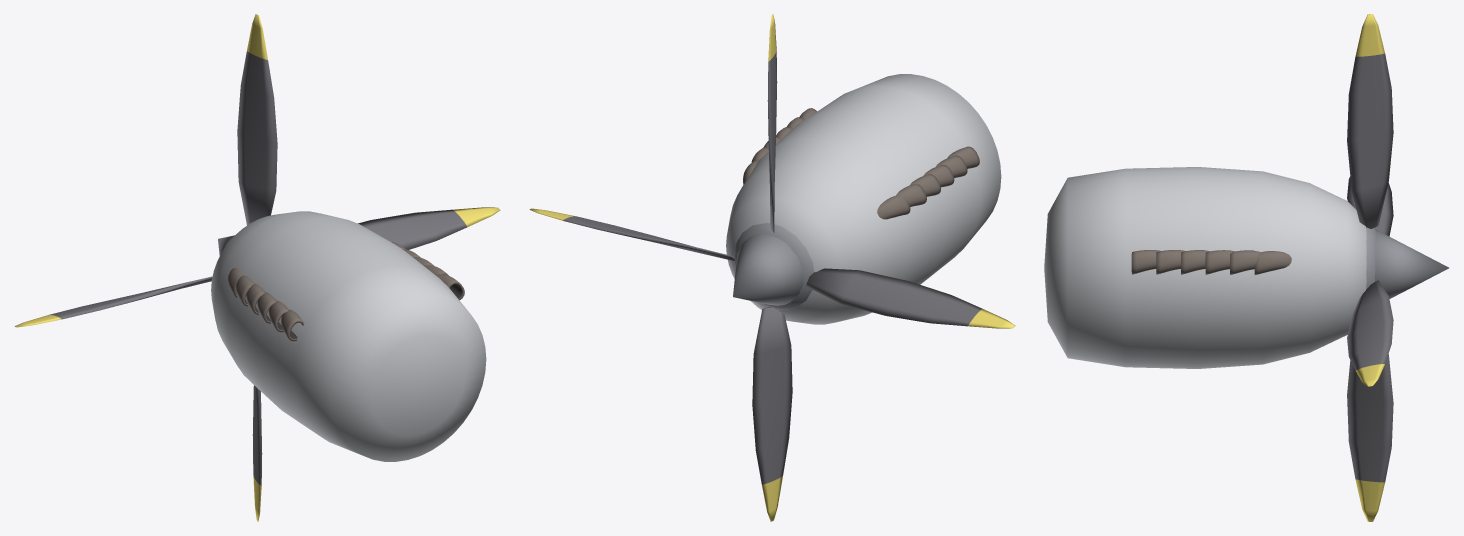
File: prop_engine_big.glb
The picture shows the model from 3 angles, left to right: view 1: azimuth 30°, elevation 25°; view 2: azimuth 150°, elevation 25°; view 3: azimuth 270°, elevation 25°; orthographic projection.
Visible parts, largest first — view 1: Cowl, Prop; view 2: Cowl, Prop, exhaust_L0; view 3: Cowl, Prop, exhaust_R0, exhaust_R1, exhaust_R5, exhaust_R2, exhaust_R4, exhaust_R3.
Boxes of the visible parts, bbox=[...] form: Cowl: bbox=[211, 211, 486, 461]; Prop: bbox=[14, 14, 500, 521]; Cowl: bbox=[726, 74, 1001, 324]; Prop: bbox=[529, 14, 1015, 521]; exhaust_L0: bbox=[877, 195, 910, 219]; Cowl: bbox=[1044, 167, 1366, 368]; Prop: bbox=[1347, 14, 1448, 521]; exhaust_R0: bbox=[1254, 251, 1291, 274]; exhaust_R1: bbox=[1230, 250, 1260, 274]; exhaust_R5: bbox=[1131, 250, 1160, 274]; exhaust_R2: bbox=[1205, 250, 1234, 274]; exhaust_R4: bbox=[1156, 250, 1185, 274]; exhaust_R3: bbox=[1181, 250, 1209, 274].
Bounding box in the file's own units: 3.1 × 3.1 × 2.24.
